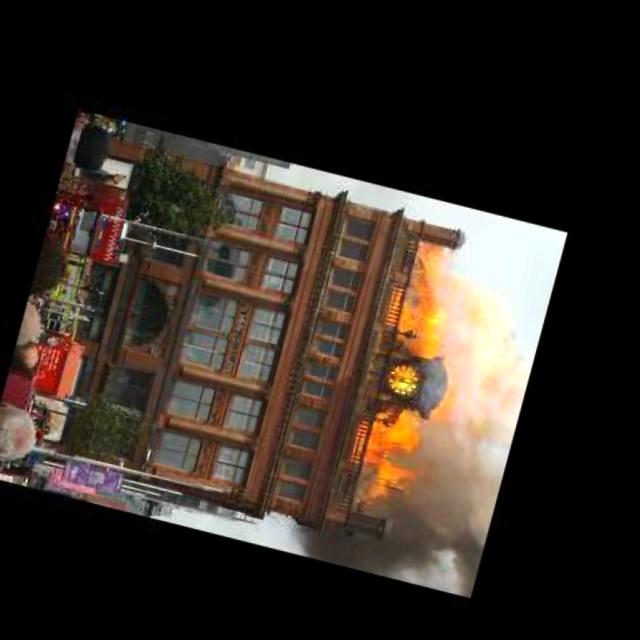fire: (344, 233, 492, 512), (294, 476, 502, 584)
